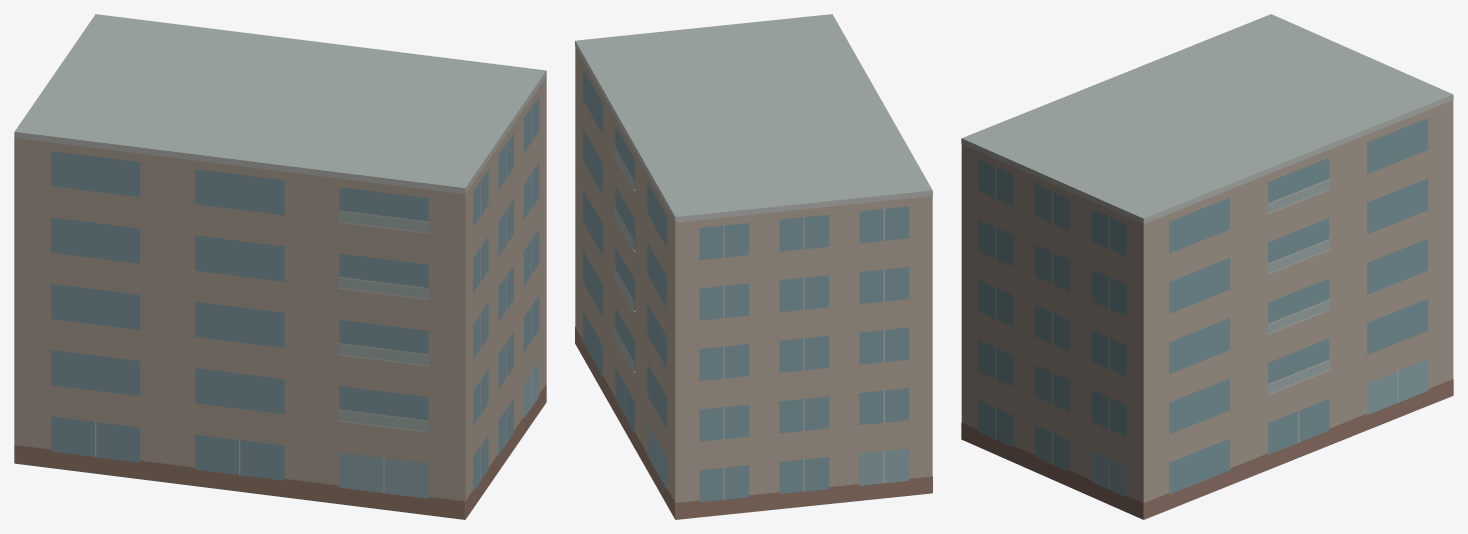
File: survey-upis-32685050.glb
3 renders of one model, left to right at view 1: azimuth 30°, elevation 25°; view 2: azimuth 150°, elevation 25°; view 3: azimuth 270°, elevation 25°, orthographic. The views are drawn at different scales.
Visible parts, largest first — view 1: survey-upis-32685050.tmp; view 2: survey-upis-32685050.tmp; view 3: survey-upis-32685050.tmp.
Boxes of the visible parts, bbox=[...] form: survey-upis-32685050.tmp: bbox=[14, 14, 546, 519]; survey-upis-32685050.tmp: bbox=[575, 14, 932, 519]; survey-upis-32685050.tmp: bbox=[961, 14, 1453, 519].
Bounding box in the file's own units: 19.39 × 13.3 × 19.69.
